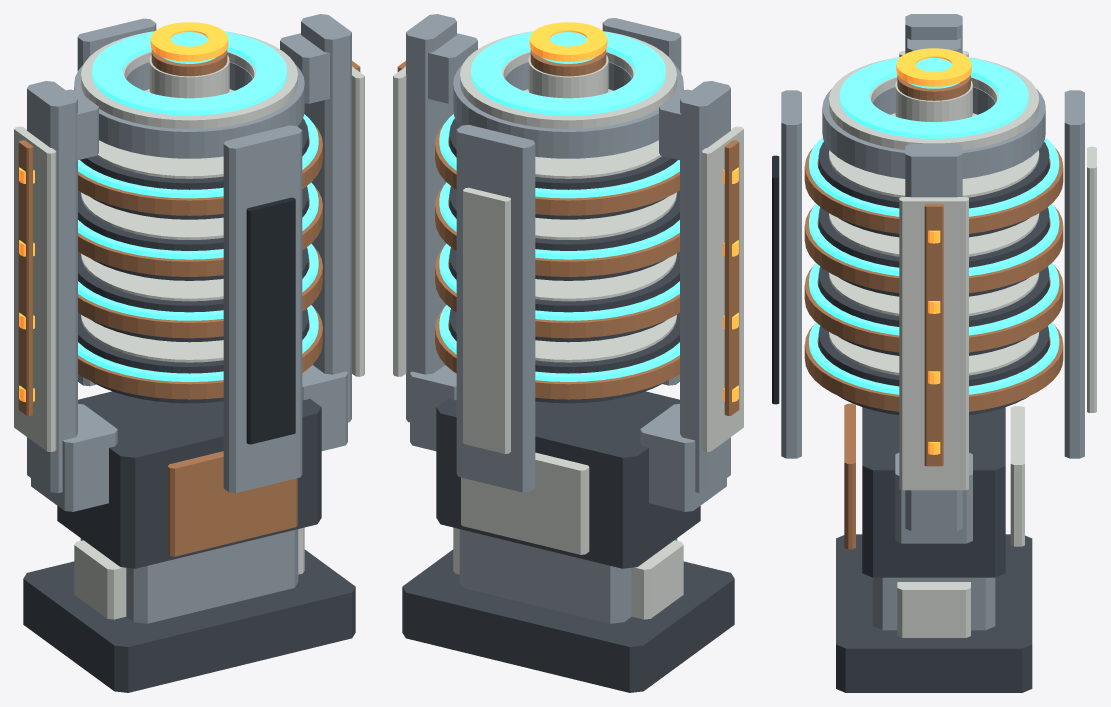
Rendered from M01-014_electromagnetic_pulser.glb.
3 renders of one model, left to right at view 1: azimuth 30°, elevation 25°; view 2: azimuth 150°, elevation 25°; view 3: azimuth 270°, elevation 25°, orthographic. The views are drawn at different scales.
Parts seen in each view (by area): view 1: M01_014_Mount_Front_Socket, M01_014_Rear_Electronics_Housing, M01_014_Ventral_Spine, M01_014_Ventral_Gasket, M01_014_Load_Rail_R, M01_014_Load_Rail_L, M01_014_Mount_Titanium_Bridge, M01_014_Side_Armor_L, M01_014_Rear_Copper_Heat_Sink, M01_014_Muzzle_Cyan_Annulus, M01_014_Muzzle_Ring_Titanium, M01_014_Muzzle_Ring_Ceramic (+28 smaller); view 2: M01_014_Mount_Front_Socket, M01_014_Rear_Electronics_Housing, M01_014_Dorsal_Spine, M01_014_Dorsal_Ceramic_Insulator, M01_014_Load_Rail_R, M01_014_Load_Rail_L, M01_014_Mount_Titanium_Bridge, M01_014_Side_Armor_L, M01_014_Rear_Service_Ceramic, M01_014_Muzzle_Cyan_Annulus, M01_014_Muzzle_Ring_Titanium, M01_014_Muzzle_Ring_Ceramic (+28 smaller); view 3: M01_014_Mount_Front_Socket, M01_014_Side_Armor_R, M01_014_Rear_Electronics_Housing, M01_014_Ventral_Spine, M01_014_Dorsal_Spine, M01_014_Muzzle_Cyan_Annulus, M01_014_Muzzle_Ring_Titanium, M01_014_Load_Rail_R, M01_014_Side_Copper_Bus_R, M01_014_Muzzle_Ring_Ceramic, M01_014_Mount_Ceramic_Key_R, M01_014_Copper_Induction_04 (+27 smaller).
Part boxes in pixels (x1,y1,x2,y2): M01_014_Mount_Front_Socket: (23,549,355,692); M01_014_Rear_Electronics_Housing: (57,391,321,568); M01_014_Ventral_Spine: (223,125,302,492); M01_014_Ventral_Gasket: (246,197,295,444); M01_014_Load_Rail_R: (301,14,351,422); M01_014_Load_Rail_L: (27,81,77,493); M01_014_Mount_Titanium_Bridge: (80,529,298,623); M01_014_Side_Armor_L: (14,126,56,451); M01_014_Rear_Copper_Heat_Sink: (167,451,297,556); M01_014_Muzzle_Cyan_Annulus: (92,31,286,115); M01_014_Muzzle_Ring_Titanium: (74,62,304,158); M01_014_Muzzle_Ring_Ceramic: (81,31,297,129); M01_014_Mount_Front_Socket: (402,549,734,692); M01_014_Rear_Electronics_Housing: (436,391,700,568); M01_014_Dorsal_Spine: (456,124,535,492); M01_014_Dorsal_Ceramic_Insulator: (463,187,510,453); M01_014_Load_Rail_R: (406,14,456,422); M01_014_Load_Rail_L: (680,81,730,493); M01_014_Mount_Titanium_Bridge: (459,529,677,623); M01_014_Side_Armor_L: (701,126,743,451); M01_014_Rear_Service_Ceramic: (461,452,589,554); M01_014_Muzzle_Cyan_Annulus: (471,31,665,115); M01_014_Muzzle_Ring_Titanium: (453,62,683,158); M01_014_Muzzle_Ring_Ceramic: (460,31,676,129); M01_014_Mount_Front_Socket: (836,534,1032,692); M01_014_Side_Armor_R: (899,197,968,490); M01_014_Rear_Electronics_Housing: (862,407,1005,577); M01_014_Ventral_Spine: (781,90,801,458); M01_014_Dorsal_Spine: (1064,90,1084,458); M01_014_Muzzle_Cyan_Annulus: (839,57,1028,138); M01_014_Muzzle_Ring_Titanium: (822,87,1045,178); M01_014_Load_Rail_R: (905,143,962,530); M01_014_Side_Copper_Bus_R: (924,203,943,466); M01_014_Muzzle_Ring_Ceramic: (829,57,1039,150); M01_014_Mount_Ceramic_Key_R: (897,582,970,637); M01_014_Copper_Induction_04: (804,145,1063,233).
Size of the model in its own units: 0.926 by 1.54 by 0.794.
